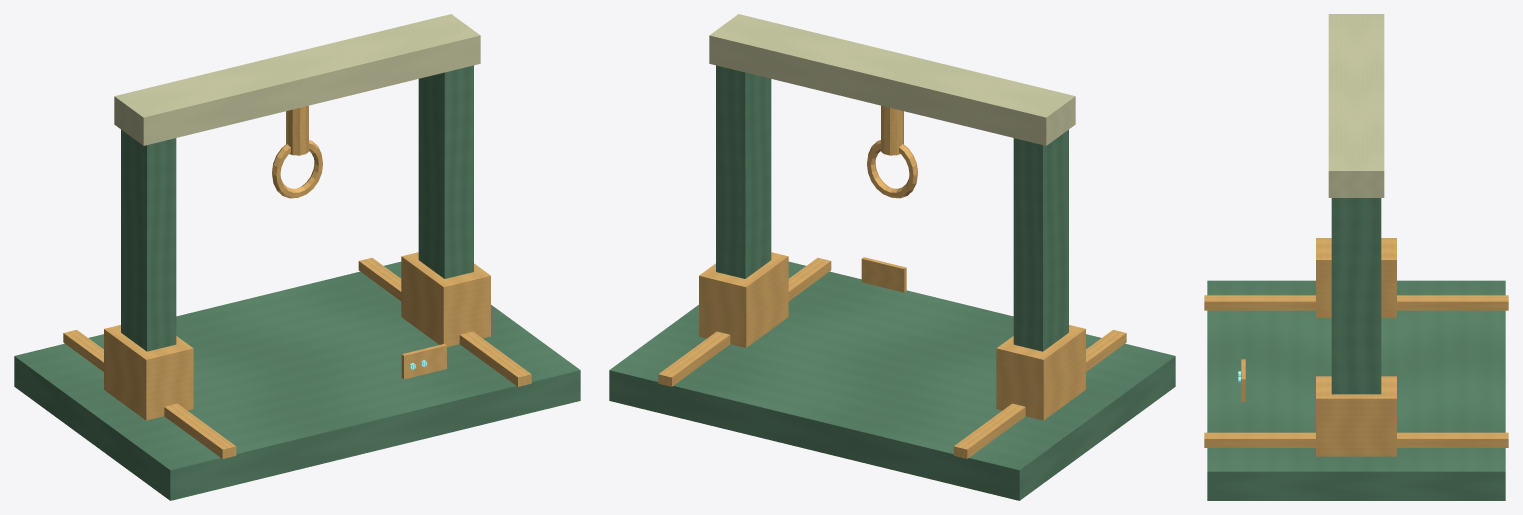
File: atlas100-s003-a02.glb
3 views of the same model, side by side, from view 1: azimuth 30°, elevation 25°; view 2: azimuth 150°, elevation 25°; view 3: azimuth 270°, elevation 25° (orthographic). The views are drawn at different scales.
Visible parts, largest first — view 1: atlas100-s003-a02:part-000, atlas100-s003-a02:part-007, atlas100-s003-a02:part-003, atlas100-s003-a02:part-005, atlas100-s003-a02:part-004, atlas100-s003-a02:part-006, atlas100-s003-a02:part-002, atlas100-s003-a02:part-001, atlas100-s003-a02:part-009, atlas100-s003-a02:part-010, atlas100-s003-a02:part-008; view 2: atlas100-s003-a02:part-000, atlas100-s003-a02:part-007, atlas100-s003-a02:part-003, atlas100-s003-a02:part-005, atlas100-s003-a02:part-004, atlas100-s003-a02:part-006, atlas100-s003-a02:part-002, atlas100-s003-a02:part-001, atlas100-s003-a02:part-009, atlas100-s003-a02:part-010, atlas100-s003-a02:part-008; view 3: atlas100-s003-a02:part-000, atlas100-s003-a02:part-007, atlas100-s003-a02:part-005, atlas100-s003-a02:part-006, atlas100-s003-a02:part-001, atlas100-s003-a02:part-002, atlas100-s003-a02:part-004.
Part boxes in pixels (x1,y1,x2,y2): atlas100-s003-a02:part-000: [14, 261, 580, 500]; atlas100-s003-a02:part-007: [114, 14, 480, 145]; atlas100-s003-a02:part-003: [121, 129, 176, 351]; atlas100-s003-a02:part-005: [418, 65, 473, 278]; atlas100-s003-a02:part-004: [104, 325, 193, 420]; atlas100-s003-a02:part-006: [401, 252, 490, 346]; atlas100-s003-a02:part-002: [358, 257, 531, 386]; atlas100-s003-a02:part-001: [63, 330, 236, 458]; atlas100-s003-a02:part-009: [272, 140, 322, 198]; atlas100-s003-a02:part-010: [401, 344, 446, 379]; atlas100-s003-a02:part-008: [286, 105, 308, 155]; atlas100-s003-a02:part-000: [609, 261, 1175, 500]; atlas100-s003-a02:part-007: [709, 14, 1075, 145]; atlas100-s003-a02:part-003: [1013, 129, 1068, 351]; atlas100-s003-a02:part-005: [716, 65, 771, 278]; atlas100-s003-a02:part-004: [996, 325, 1085, 420]; atlas100-s003-a02:part-006: [699, 252, 788, 347]; atlas100-s003-a02:part-002: [658, 257, 831, 386]; atlas100-s003-a02:part-001: [953, 330, 1126, 458]; atlas100-s003-a02:part-009: [867, 140, 917, 198]; atlas100-s003-a02:part-010: [861, 257, 906, 292]; atlas100-s003-a02:part-008: [881, 105, 903, 155]; atlas100-s003-a02:part-000: [1207, 280, 1505, 500]; atlas100-s003-a02:part-007: [1328, 14, 1384, 197]; atlas100-s003-a02:part-005: [1331, 198, 1381, 394]; atlas100-s003-a02:part-006: [1316, 376, 1396, 456]; atlas100-s003-a02:part-001: [1204, 295, 1508, 310]; atlas100-s003-a02:part-002: [1204, 432, 1508, 447]; atlas100-s003-a02:part-004: [1316, 238, 1396, 317].
Bounding box in the file's own units: 3.64 × 2.78 × 2.45.
Materials: 4 (4 with a texture image).
